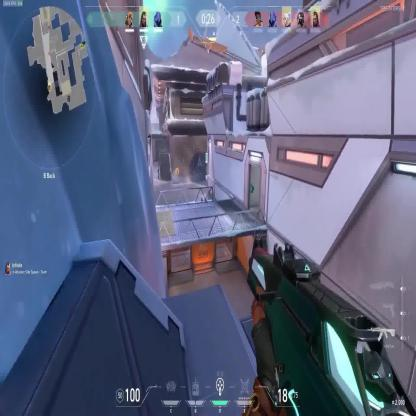enemy: (201, 196, 203, 206)
enemy_head: (201, 197, 203, 200)
